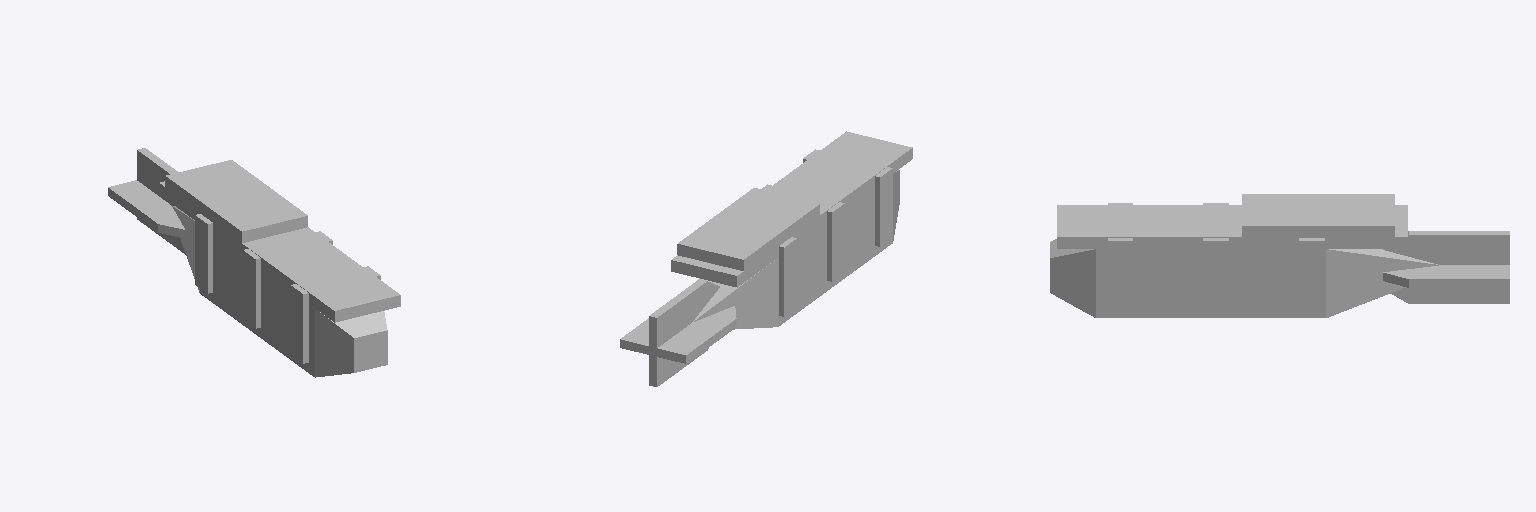
Rendered from heavy_bombrack.obj.
3 views of the same model, side by side, from view 1: azimuth 30°, elevation 25°; view 2: azimuth 150°, elevation 25°; view 3: azimuth 270°, elevation 25° (orthographic).
Visible parts, largest first — view 1: cube, basicbomb1; view 2: cube, basicbomb1; view 3: basicbomb1, cube.
Boxes of the visible parts, x1,y1,x2,y2 form: cube: [159, 160, 400, 363]; basicbomb1: [108, 148, 387, 377]; cube: [671, 131, 912, 316]; basicbomb1: [620, 170, 899, 386]; basicbomb1: [1050, 231, 1509, 317]; cube: [1057, 194, 1407, 309].
Bounding box in the file's own units: 0.4375 × 0.5 × 2.25.